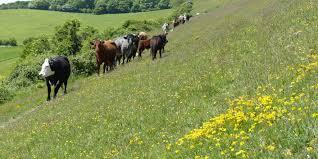cow: (39, 55, 71, 102), (89, 40, 117, 76), (112, 32, 138, 65), (150, 32, 169, 59), (138, 38, 152, 56), (138, 31, 148, 39)
